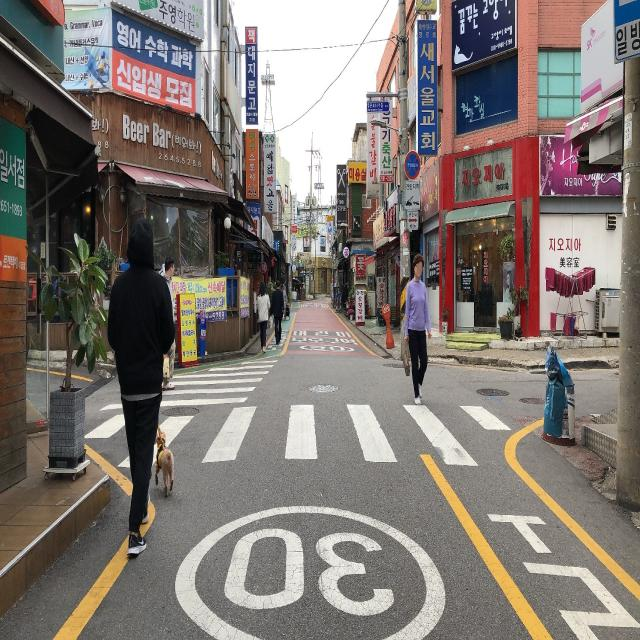횡단보도: (87, 388, 527, 483), (98, 358, 279, 413)
